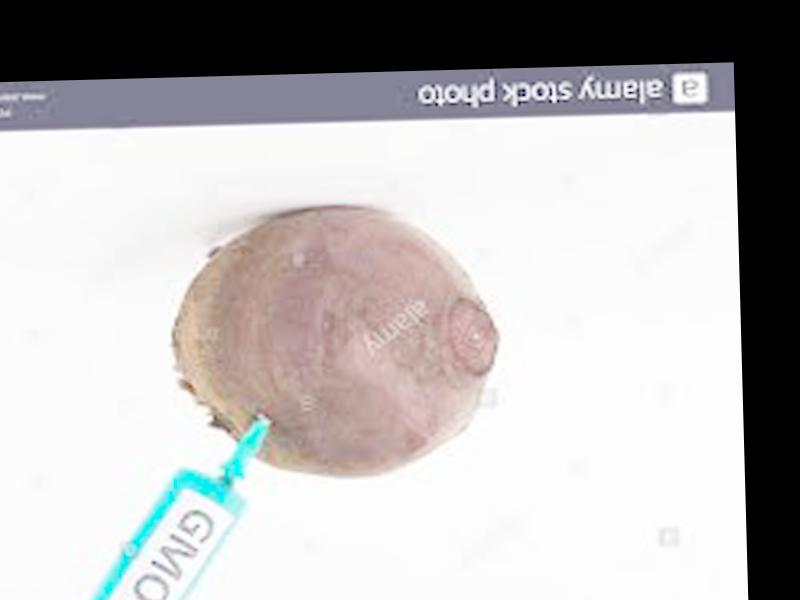Beet: (174, 200, 500, 483)
